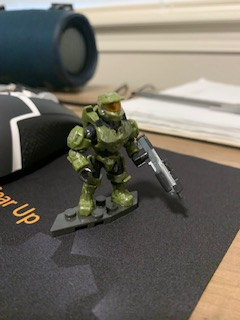chief: (66, 91, 144, 219)
rifle: (135, 132, 184, 202)
spartan: (64, 89, 142, 217)
